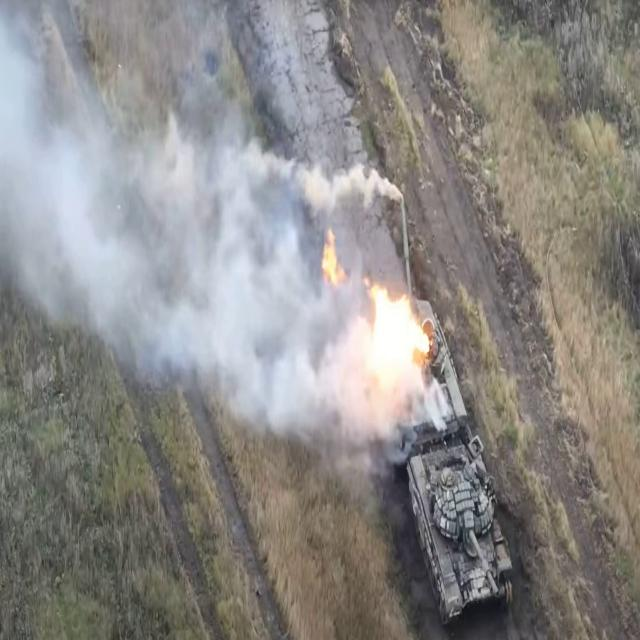Destroyed: (374, 191, 469, 452)
MBT: (407, 441, 515, 636)
